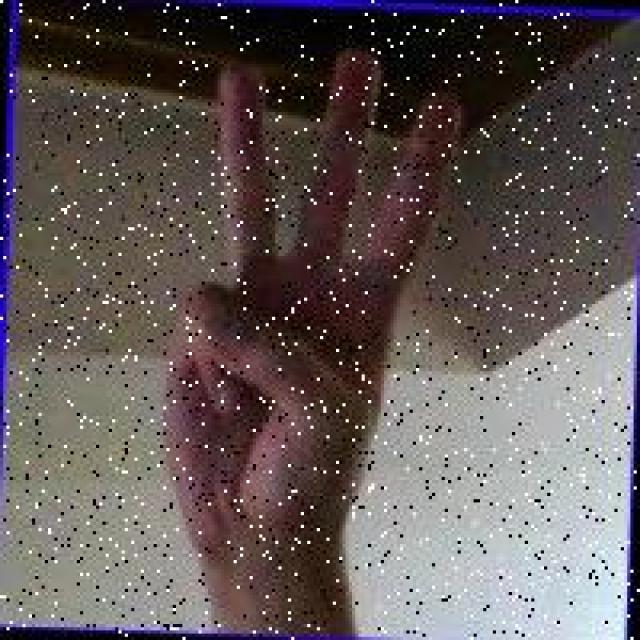W: (148, 33, 470, 564)
